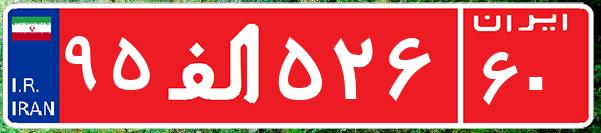0: (525, 38, 570, 115)
2: (330, 28, 385, 110)
5: (273, 28, 330, 110), (110, 28, 158, 105)
6: (385, 28, 445, 110), (475, 38, 525, 113)
9: (57, 26, 110, 107)
الف: (158, 15, 273, 115)
